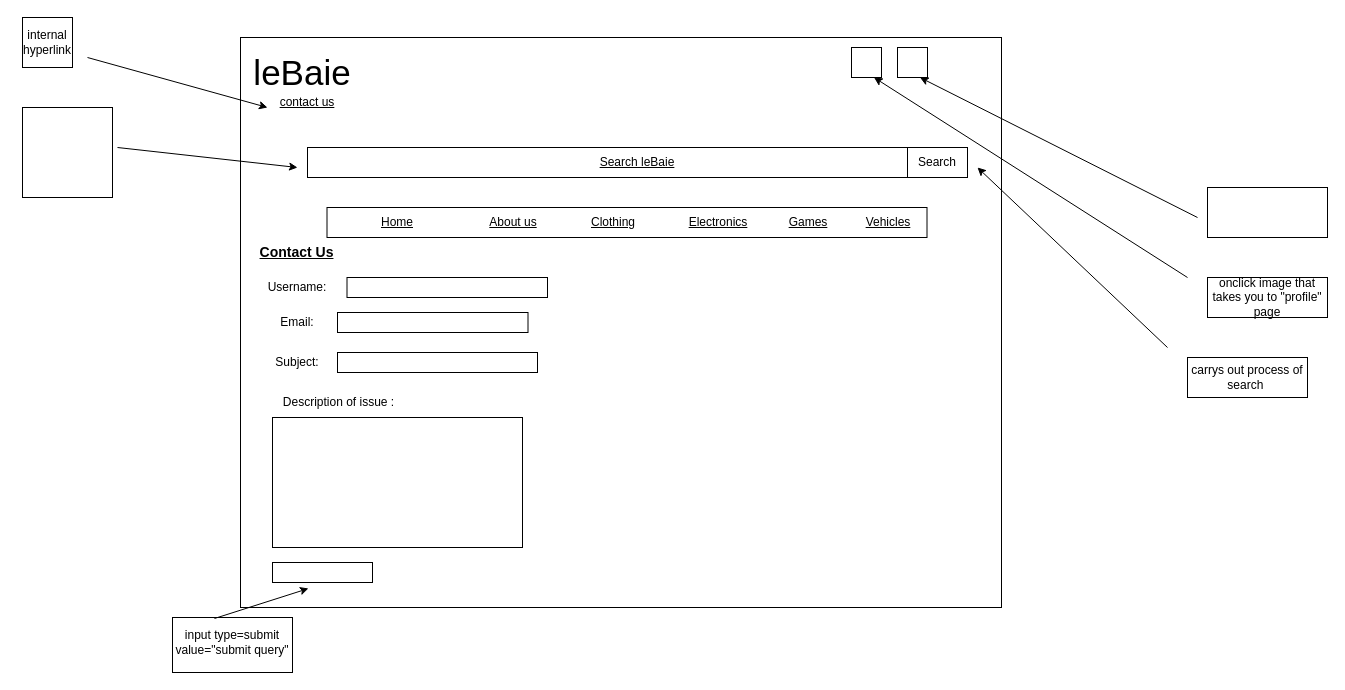
Some shapes in this 1345 by 690 pixel diagram are drawn without their labels. The centre of each missing label's shape, as x and y in pixels:
onclick image that takes you to "basket" page: point 1267,212
submit query: point 322,572
text input box for seach with value "seach leBaie": point 67,152
